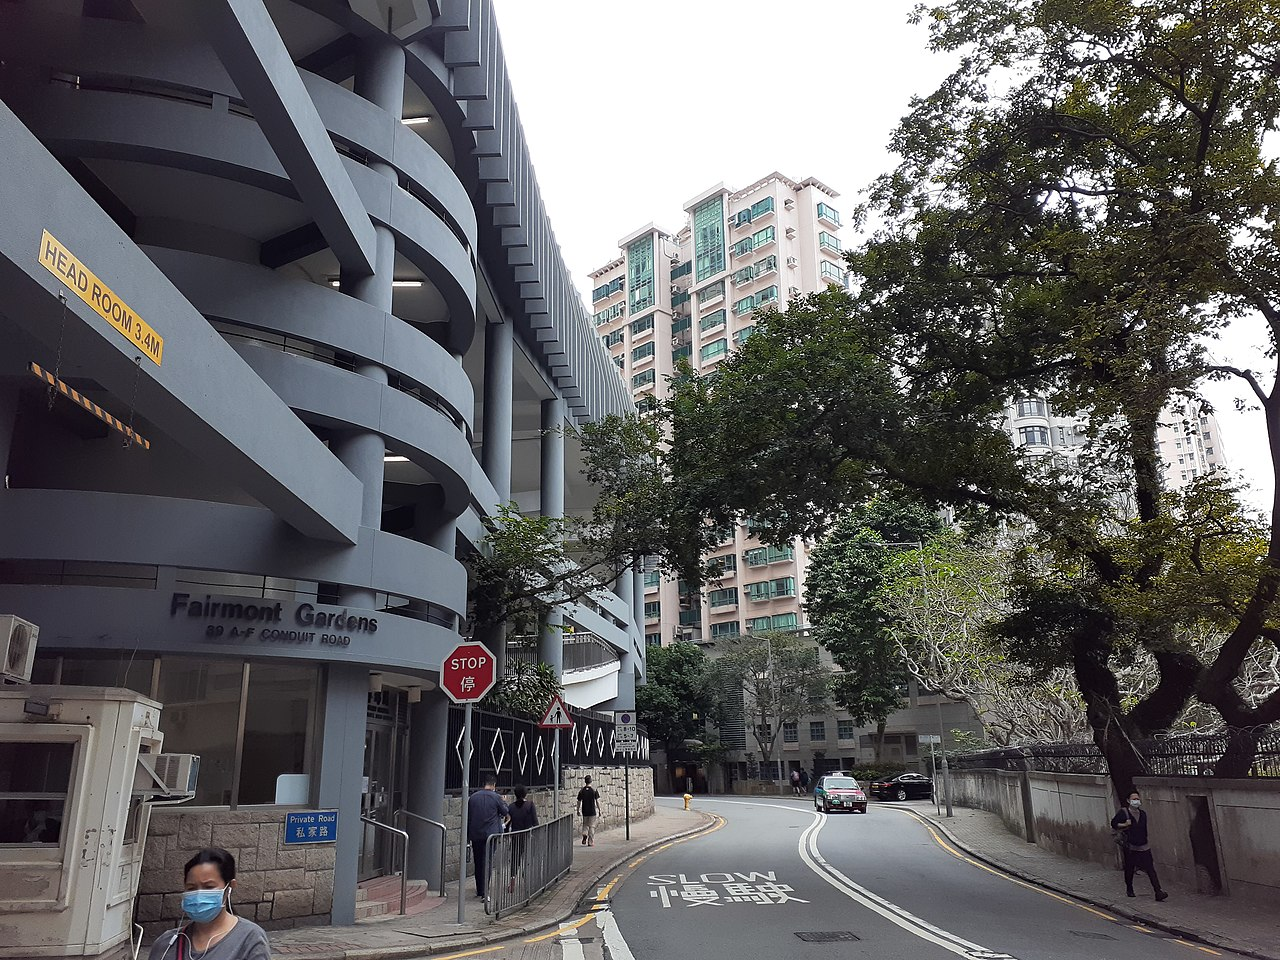Start Of No Stopping: (613, 710, 638, 742)
Stop: (440, 643, 496, 702)
